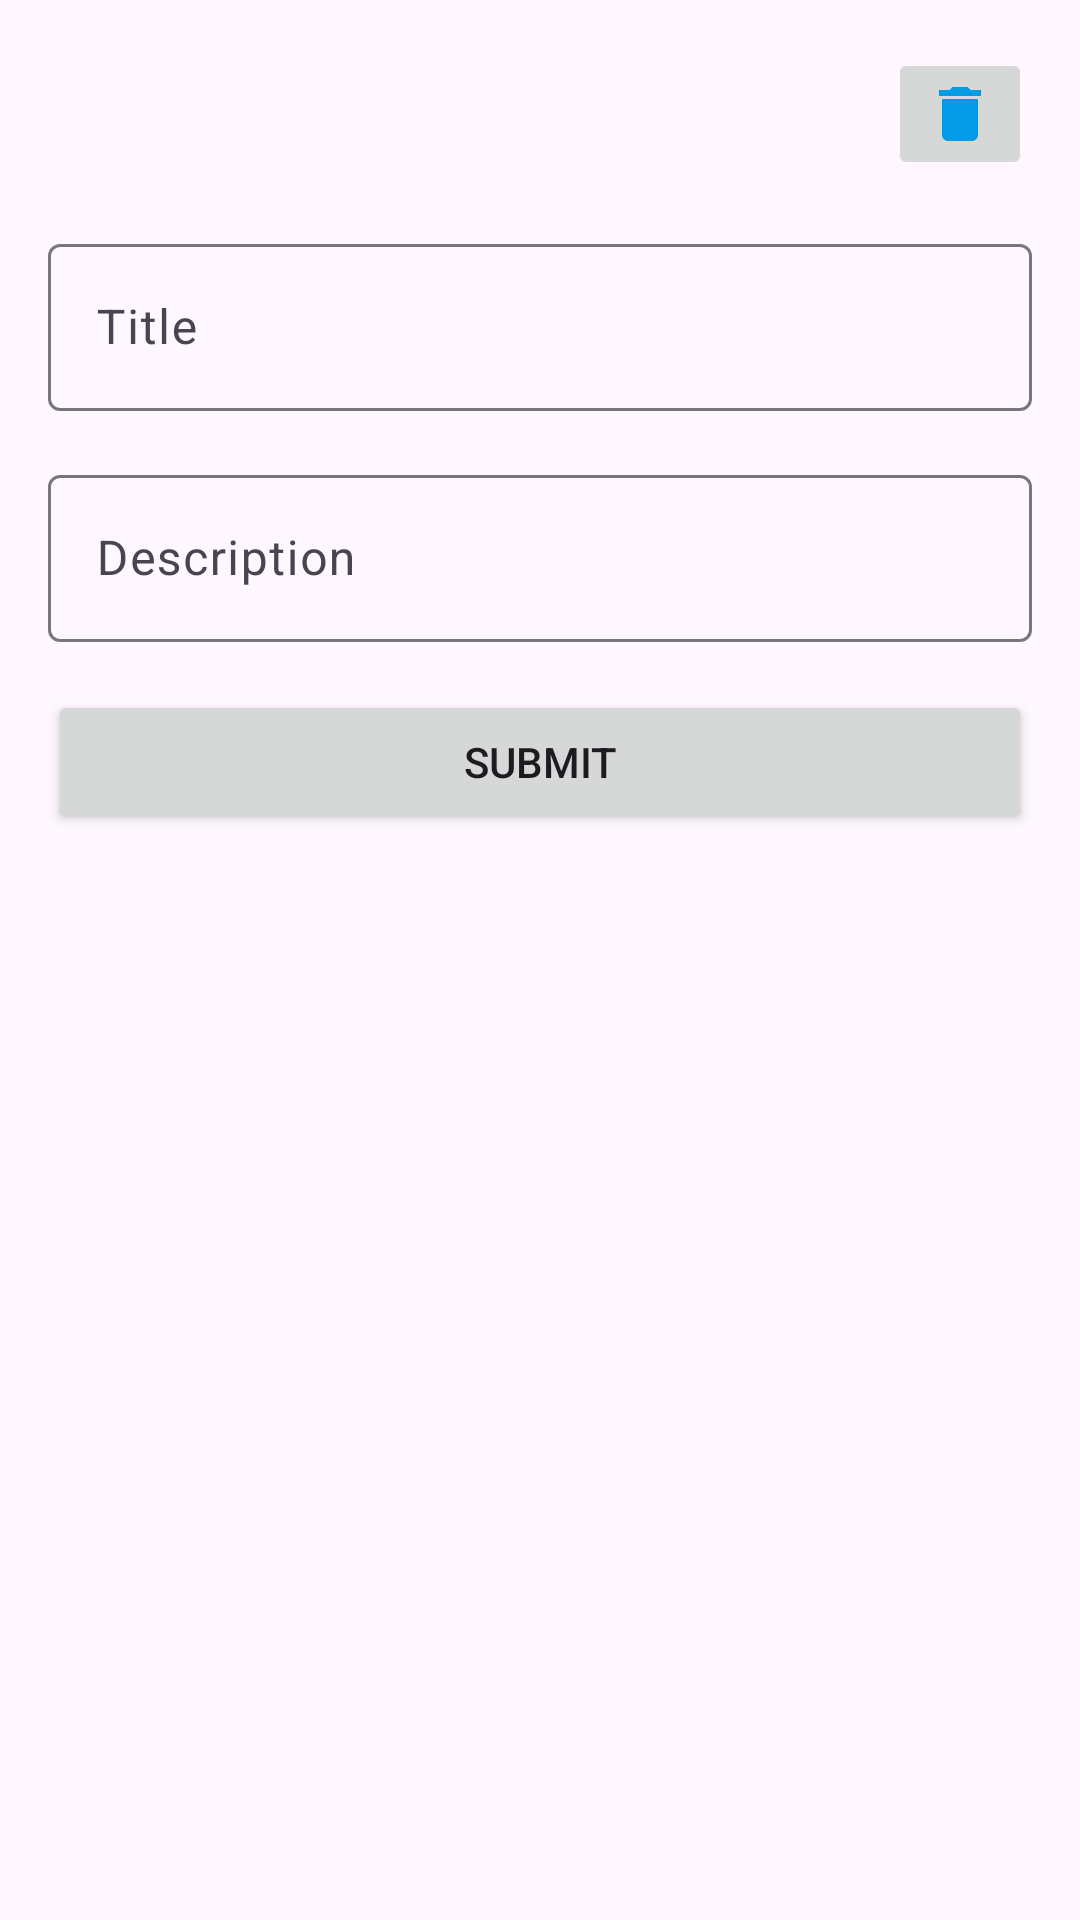

Locate icon controls on the screen. Image size 1080×1920, boxes as (x1, y1, x2, y2).
delete: (900, 66, 1020, 162)
